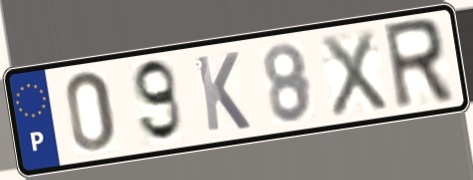0: (63, 68, 120, 157)
8: (260, 40, 314, 125)
9: (129, 58, 186, 147)
K: (192, 49, 254, 135)
R: (379, 15, 458, 115)
X: (317, 26, 392, 121)
